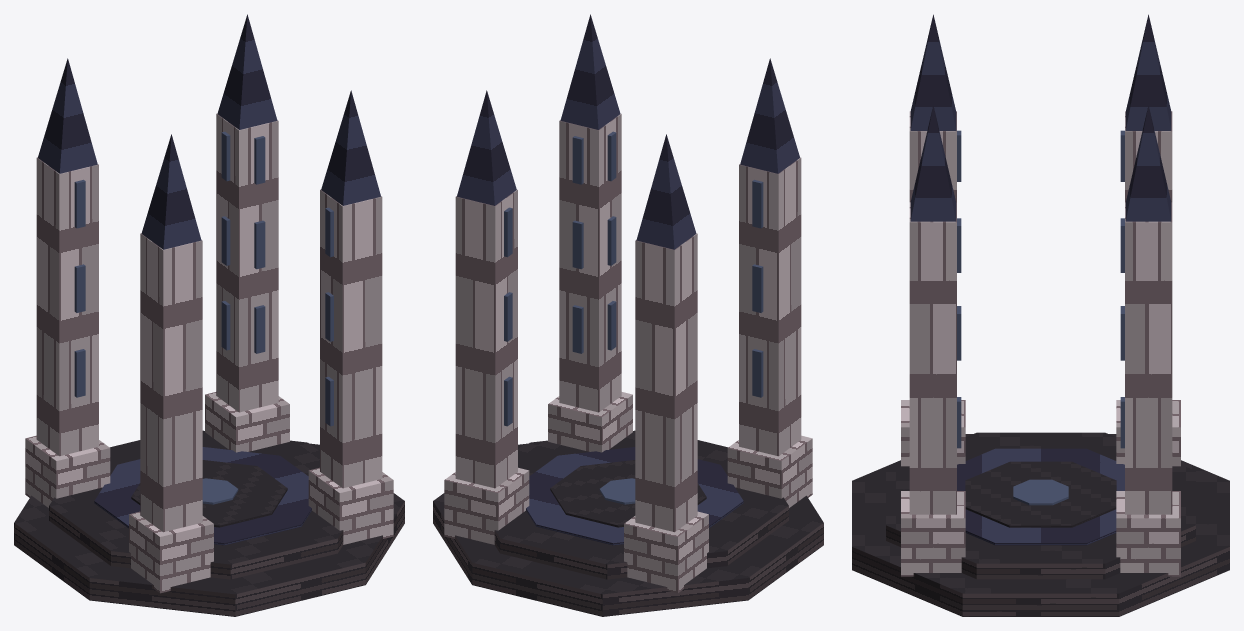
File: teleporter_B_ruhend.glb
3 views of the same model, side by side, from view 1: azimuth 30°, elevation 25°; view 2: azimuth 150°, elevation 25°; view 3: azimuth 270°, elevation 25° (orthographic). The views are drawn at different scales.
Visible parts, largest first — view 1: body, glow; view 2: body, glow; view 3: body, glow.
Part boxes in pixels (left/top/right/bottom): body: left=14, top=113, right=404, bottom=616; glow: left=38, top=14, right=380, bottom=545; body: left=433, top=113, right=823, bottom=616; glow: left=457, top=14, right=799, bottom=545; body: left=852, top=111, right=1229, bottom=616; glow: left=910, top=14, right=1171, bottom=545.
Bounding box in the file's own units: 1.76 × 2.45 × 1.76.
Materials: 1 (1 with a texture image).
